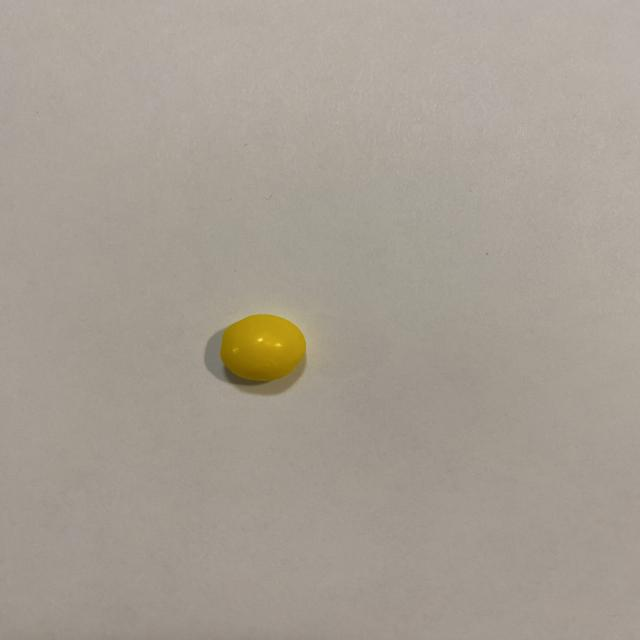smartie: (219, 314, 305, 381)
